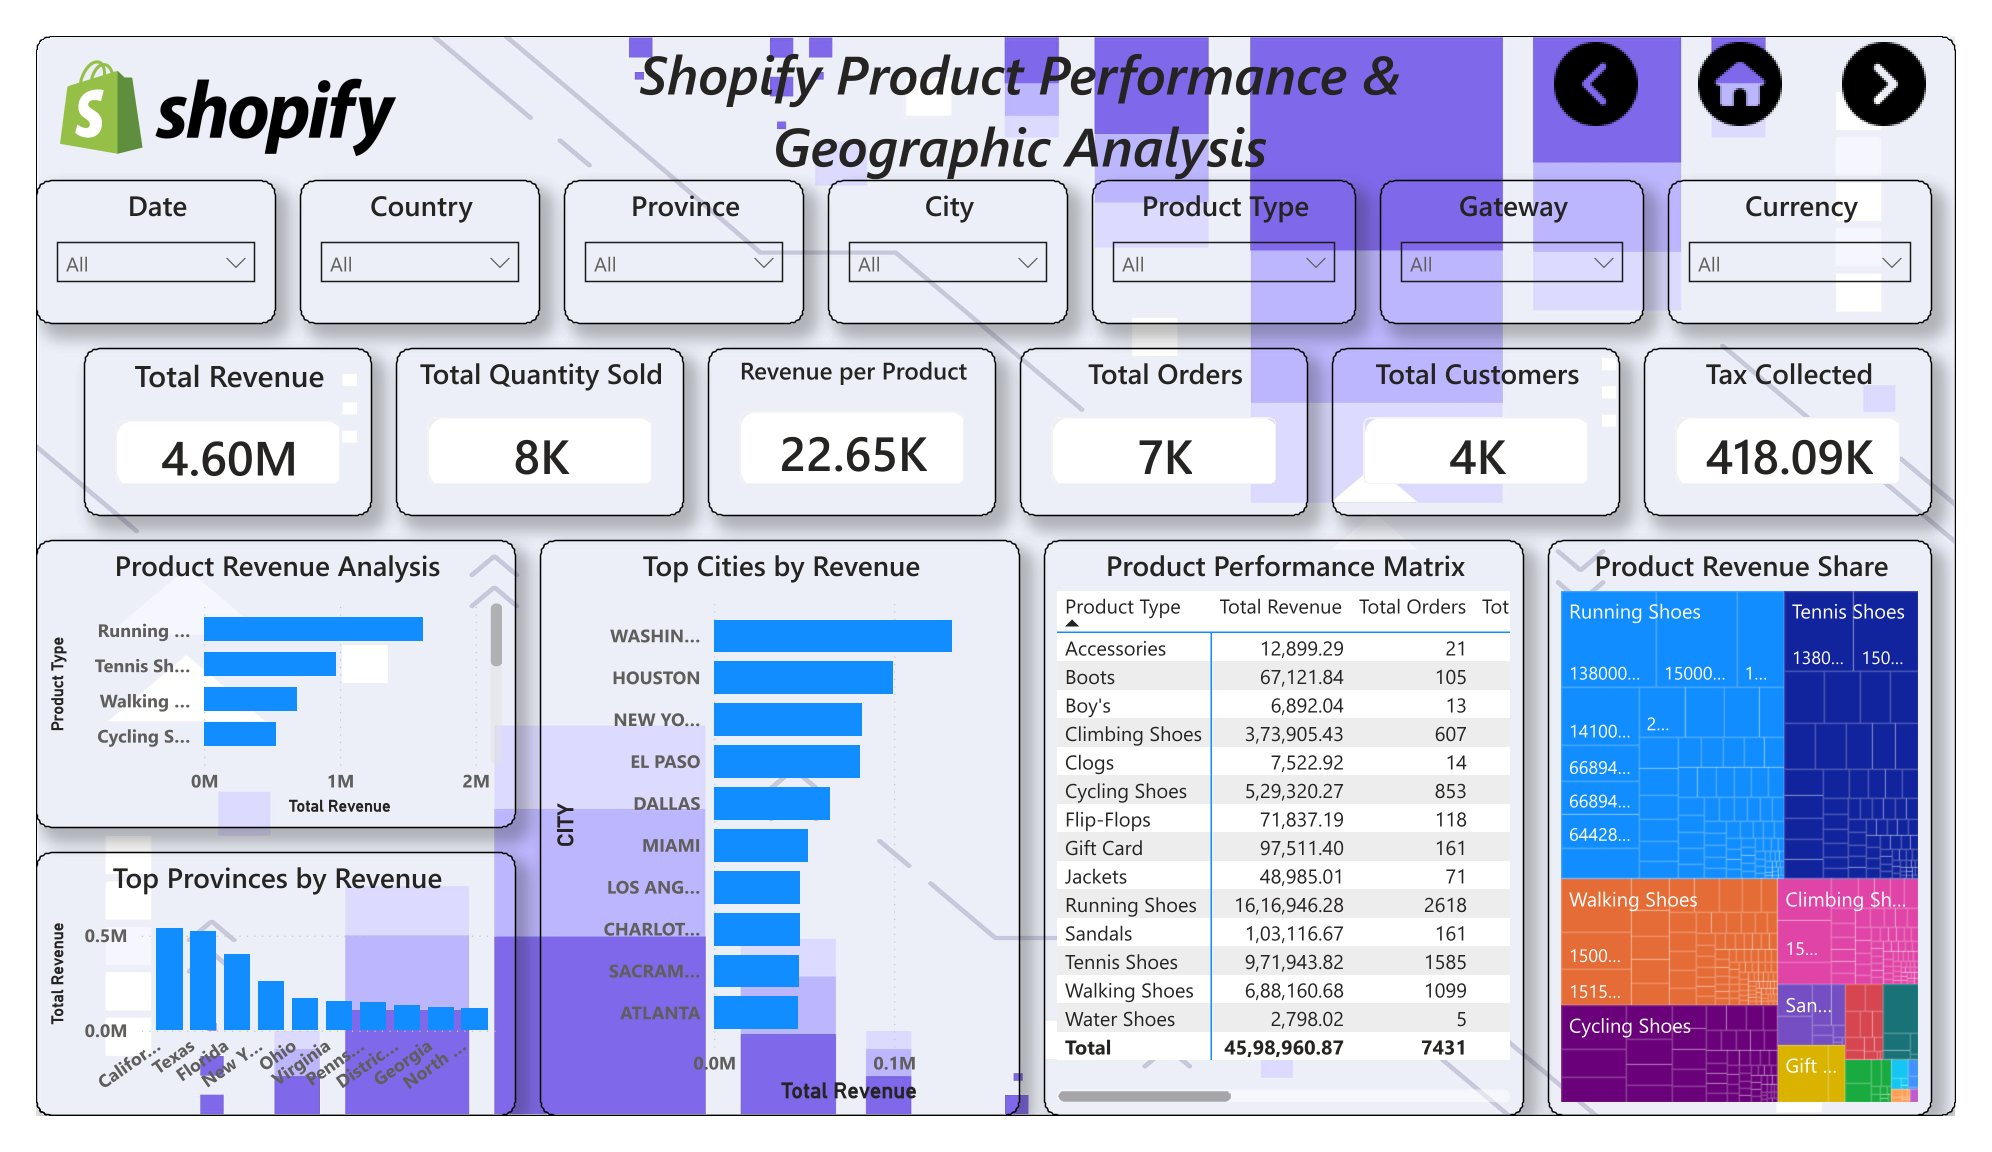

This screenshot's page, from the dashboard's own definition file:
{"tool":"powerbi","page":{"name":"Products","canvas":[1280,720],"ordinal":4},"visuals":[{"type":"image","box":[0,0,1280,720],"z":0},{"type":"image","box":[16,0,224,96],"z":1000},{"type":"textbox","title":"Shopify Product Performance & Geographic Analysis","box":[368,0,576,96],"z":2000},{"type":"actionButton","box":[1184,0,96,64],"z":3000},{"type":"actionButton","box":[1088,0,96,64],"z":4000},{"type":"actionButton","box":[992,0,96,64],"z":5000},{"type":"slicer","title":"Date","fields":{"Values":["shopify_sales.Invoice Date"]},"box":[0,96,160,96],"z":6000},{"type":"slicer","title":"Country","fields":{"Values":["shopify_sales.Billing Address Country"]},"box":[176,96,160,96],"z":7000},{"type":"slicer","title":"Province","fields":{"Values":["shopify_sales.Billing Address Province"]},"box":[352,96,160,96],"z":8000},{"type":"slicer","title":"Product Type","fields":{"Values":["shopify_sales.Product Type"]},"box":[704,96,176,96],"z":9000},{"type":"slicer","title":"Gateway","fields":{"Values":["shopify_sales.Gateway"]},"box":[896,96,176,96],"z":10000},{"type":"slicer","title":"Currency","fields":{"Values":["shopify_sales.Currency"]},"box":[1088,96,176,96],"z":11000},{"type":"slicer","title":"City","fields":{"Values":["shopify_sales.CITY"]},"box":[528,96,160,96],"z":12000},{"type":"cardVisual","title":"Total Revenue","fields":{"Data":["shopify_sales.Total Revenue"]},"box":[32,208,192,112],"z":13000},{"type":"cardVisual","title":"Total Orders","fields":{"Data":["shopify_sales.Total Orders"]},"box":[656,208,192,112],"z":14000},{"type":"cardVisual","title":"Total Customers","fields":{"Data":["shopify_sales.Total Customers"]},"box":[864,208,192,112],"z":15000},{"type":"cardVisual","title":"Total Quantity Sold","fields":{"Data":["shopify_sales.Total Quantity Sold"]},"box":[240,208,192,112],"z":16000},{"type":"cardVisual","title":"Revenue per Product","fields":{"Data":["shopify_sales.Revenue per Product"]},"box":[448,208,192,112],"z":17000},{"type":"cardVisual","title":"Tax Collected","fields":{"Data":["shopify_sales.Tax_total"]},"box":[1072,208,192,112],"z":18000},{"type":"clusteredBarChart","title":"Product Revenue Analysis","fields":{"Category":["shopify_sales.Product Type"],"Y":["shopify_sales.Total Revenue"]},"box":[0,336,320,192],"z":19000},{"type":"treemap","title":"Product Revenue Share","fields":{"Group":["shopify_sales.Product Type"],"Values":["shopify_sales.Total Revenue"],"Details":["shopify_sales.Product Id"]},"box":[1008,336,256,384],"z":20000},{"type":"clusteredBarChart","title":"Top Cities by Revenue","fields":{"Category":["shopify_sales.CITY"],"Y":["shopify_sales.Total Revenue"]},"box":[336,336,320,384],"z":21000},{"type":"clusteredColumnChart","title":"Top Provinces by Revenue","fields":{"Category":["shopify_sales.Billing Address Province"],"Y":["shopify_sales.Total Revenue"]},"box":[0,544,320,176],"z":22000},{"type":"pivotTable","title":"Product Performance Matrix","fields":{"Rows":["shopify_sales.Product Type"],"Values":["shopify_sales.Total Revenue","shopify_sales.Total Orders","shopify_sales.Total Quantity Sold","shopify_sales.Revenue per Product","shopify_sales.Tax_total"]},"box":[672,336,320,384],"z":23000}]}

Visuals, with their boxes in screenshot pixels (x1, y1, x2, y2), scaled from the page's 1280x720 canvas onto the 1992x1152 screenshot:
image: 0:0:1991:1151
image: 25:0:374:154
"Shopify Product Performance & Geographic Analysis" textbox: 573:0:1469:154
actionButton: 1843:0:1991:102
actionButton: 1693:0:1843:102
actionButton: 1544:0:1693:102
"Date" slicer: 0:154:249:307
"Country" slicer: 274:154:523:307
"Province" slicer: 548:154:797:307
"Product Type" slicer: 1096:154:1370:307
"Gateway" slicer: 1394:154:1668:307
"Currency" slicer: 1693:154:1967:307
"City" slicer: 822:154:1071:307
"Total Revenue" cardVisual: 50:333:349:512
"Total Orders" cardVisual: 1021:333:1320:512
"Total Customers" cardVisual: 1345:333:1643:512
"Total Quantity Sold" cardVisual: 374:333:672:512
"Revenue per Product" cardVisual: 697:333:996:512
"Tax Collected" cardVisual: 1668:333:1967:512
"Product Revenue Analysis" clusteredBarChart: 0:538:498:845
"Product Revenue Share" treemap: 1569:538:1967:1151
"Top Cities by Revenue" clusteredBarChart: 523:538:1021:1151
"Top Provinces by Revenue" clusteredColumnChart: 0:870:498:1151
"Product Performance Matrix" pivotTable: 1046:538:1544:1151
